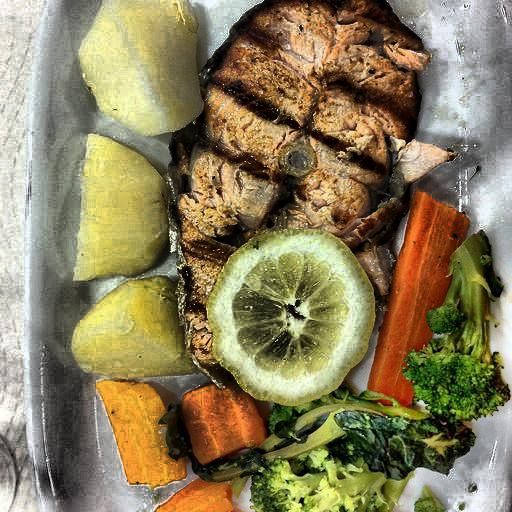fish: (165, 12, 425, 359)
